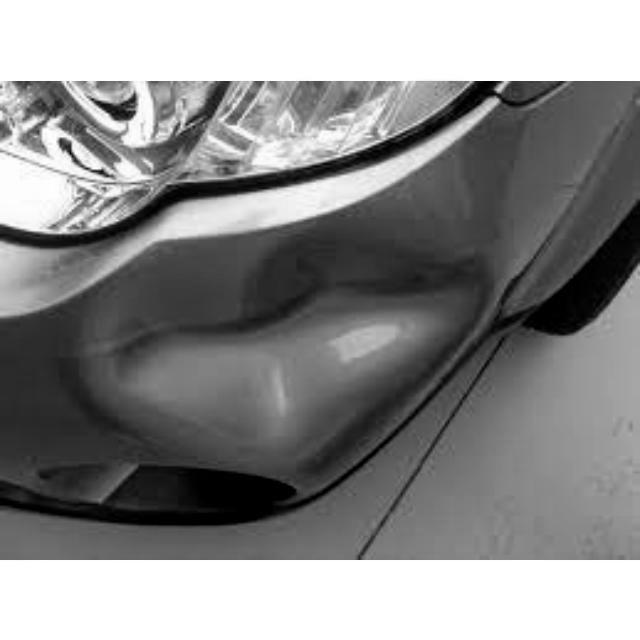front-bumper-dent: (0, 195, 506, 518)
